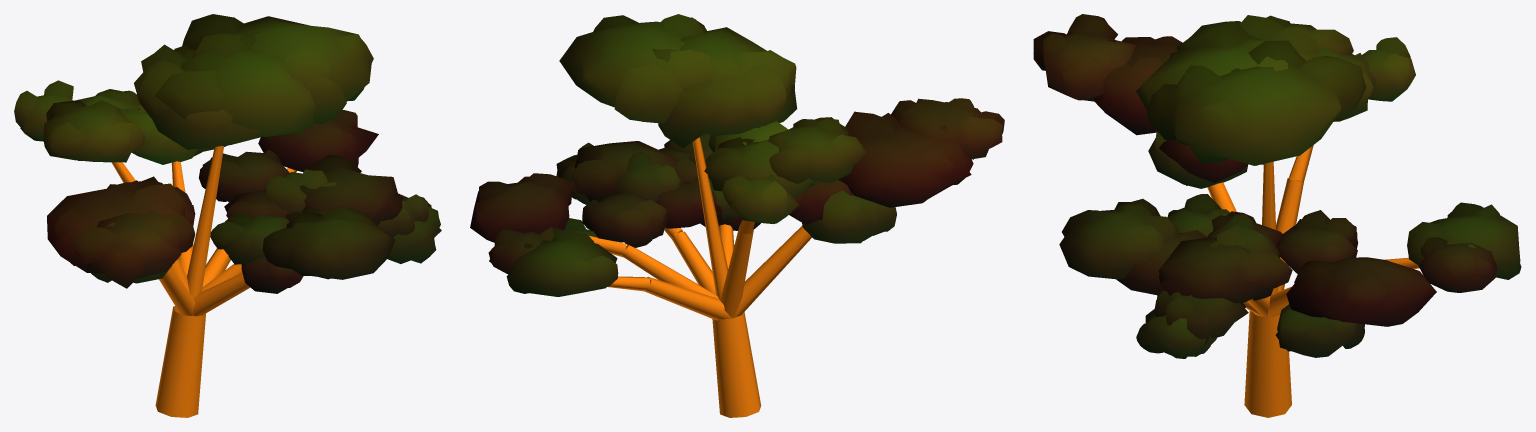
Rendered from Cypress_A.fbx.
The picture shows the model from 3 angles, left to right: view 1: azimuth 30°, elevation 25°; view 2: azimuth 150°, elevation 25°; view 3: azimuth 270°, elevation 25°; orthographic projection. The views are drawn at different scales.
Visible parts, largest first — view 1: Cypress_A; view 2: Cypress_A; view 3: Cypress_A.
Boxes of the visible parts, box(x1,y1,x2,y2) form: Cypress_A: box(14, 14, 441, 417); Cypress_A: box(470, 14, 1004, 417); Cypress_A: box(1033, 14, 1521, 417).
Size of the model in its own units: 13.54 by 11.27 by 12.7.
